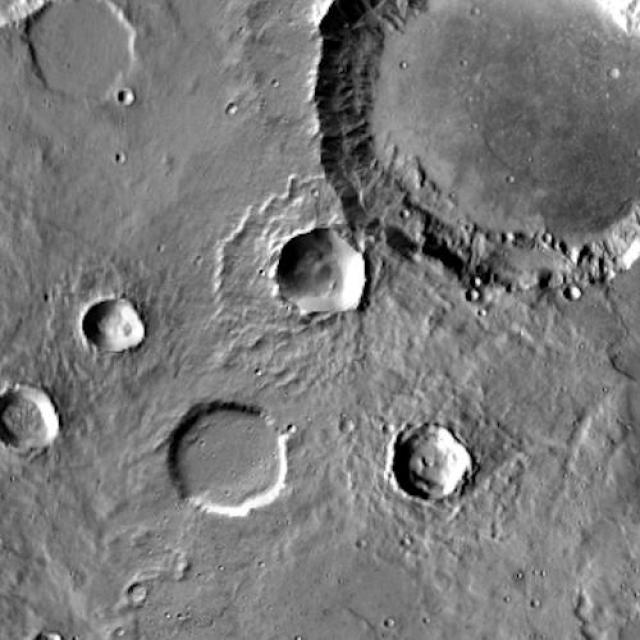crater: (290, 0, 640, 298), (282, 0, 626, 158), (0, 0, 157, 132), (162, 381, 302, 528), (0, 460, 114, 632), (0, 313, 94, 492), (0, 0, 129, 96), (22, 0, 152, 83), (380, 402, 476, 512), (0, 376, 88, 486), (0, 0, 92, 96), (0, 184, 65, 307), (73, 282, 161, 372), (444, 0, 553, 62), (1, 252, 48, 346), (0, 0, 71, 56), (0, 0, 59, 55), (0, 0, 52, 51), (0, 294, 36, 362), (9, 624, 84, 640), (73, 0, 119, 20), (0, 197, 20, 239), (0, 0, 27, 23)
